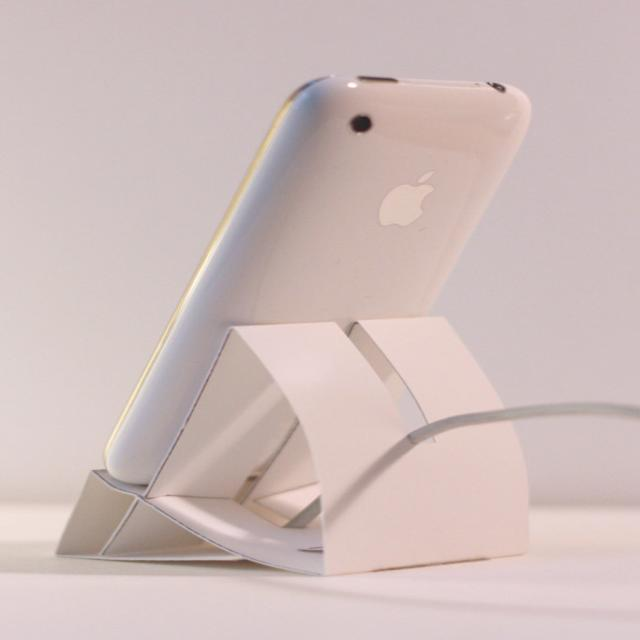Mobile-phone: (79, 75, 558, 542)
